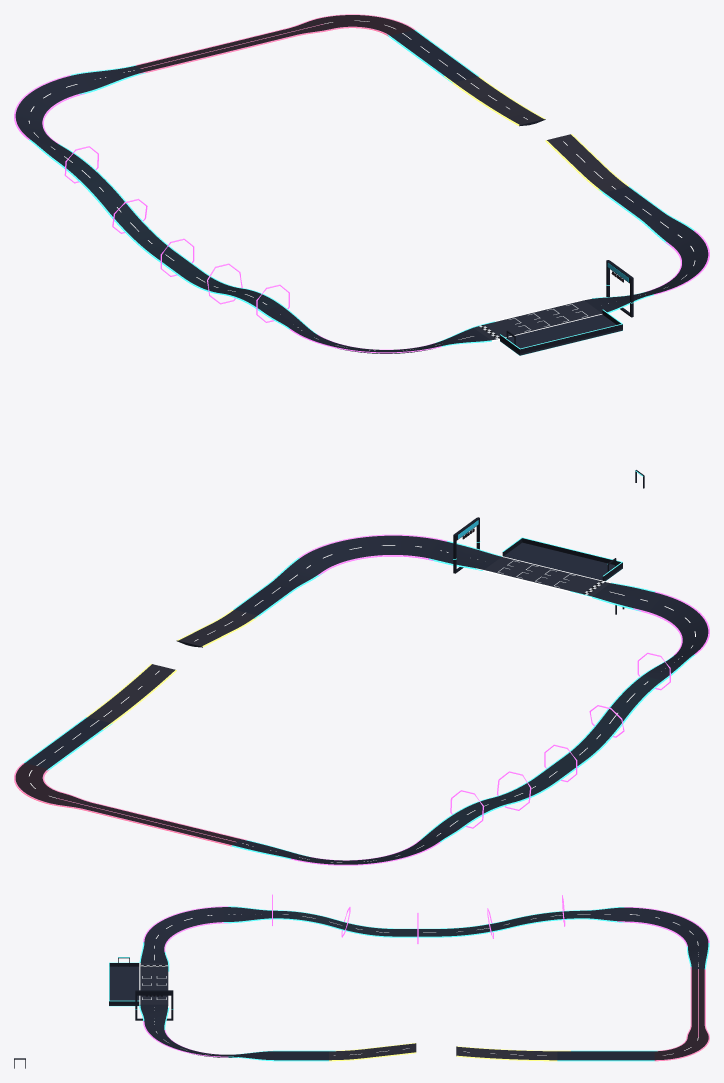
3 renders of one model, top to bottom at view 1: azimuth 30°, elevation 25°; view 2: azimuth 150°, elevation 25°; view 3: azimuth 270°, elevation 25°, orthographic. The views are drawn at different scales.
Visible parts, largest first — view 1: arcade_vertigo.lod0; view 2: arcade_vertigo.lod0; view 3: arcade_vertigo.lod0.
Boxes of the visible parts, <box> form: arcade_vertigo.lod0: <box>14,14,709,488</box>; arcade_vertigo.lod0: <box>14,517,709,865</box>; arcade_vertigo.lod0: <box>14,894,709,1068</box>.
Size of the model in its own units: 107 by 33.8 by 207.
